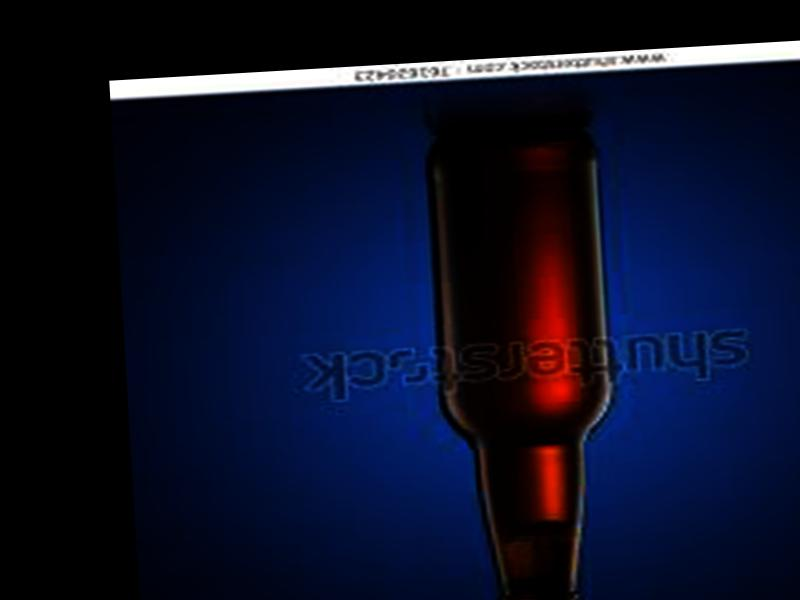Beer: (423, 128, 626, 600)
